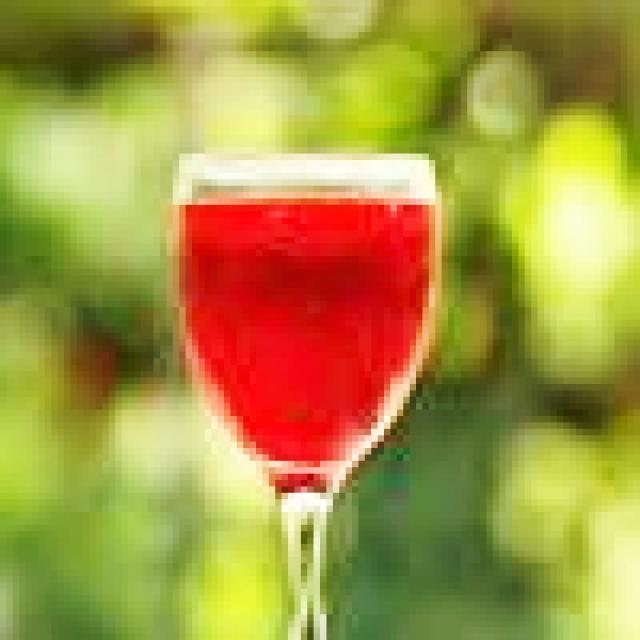drink: (160, 134, 461, 634)
